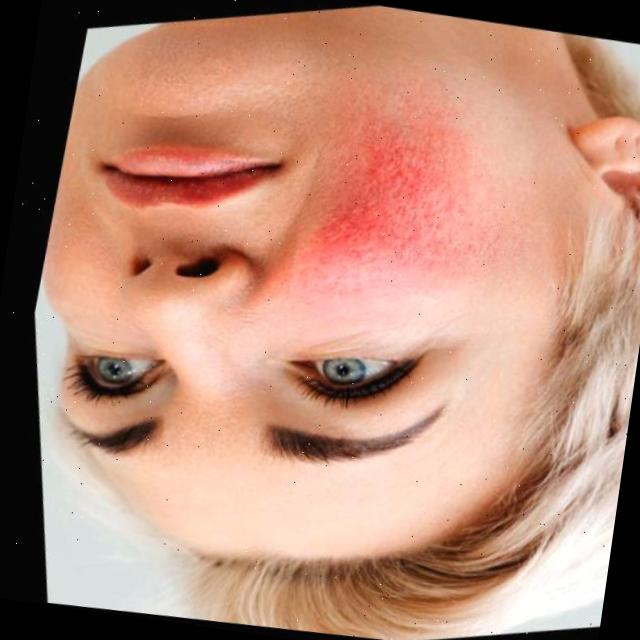redness: (288, 116, 500, 300)
